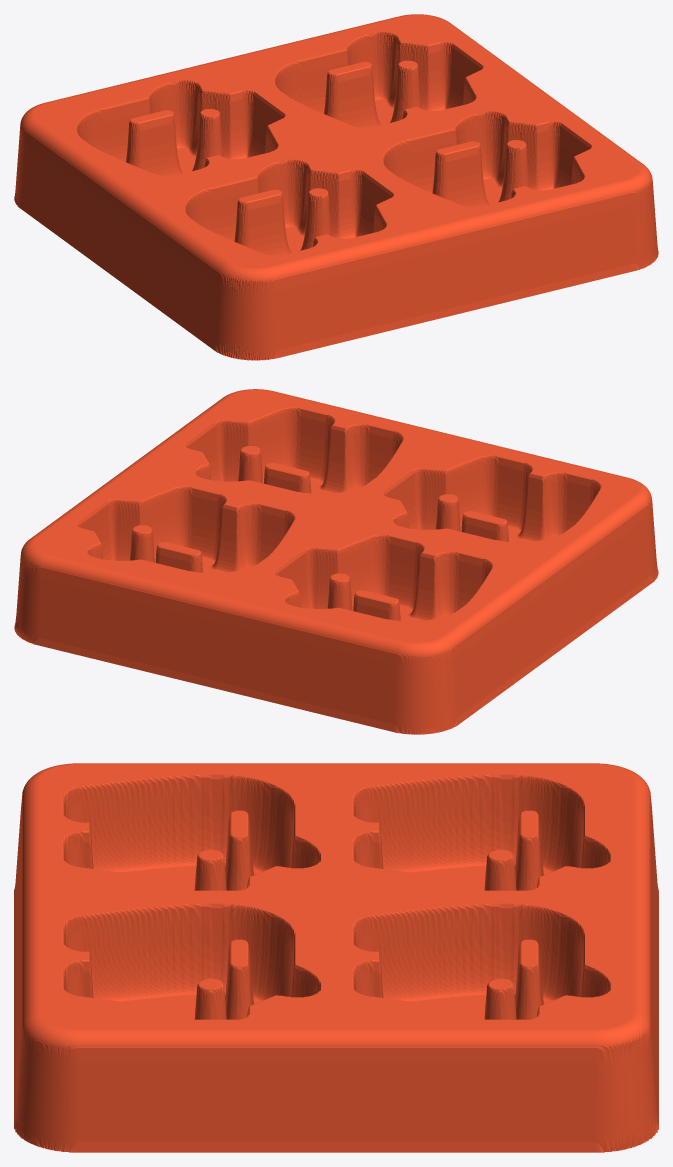
The model's file is mold.glb.
3 renders of one model, top to bottom at view 1: azimuth 30°, elevation 25°; view 2: azimuth 150°, elevation 25°; view 3: azimuth 270°, elevation 25°, orthographic. The views are drawn at different scales.
Parts seen in each view (by area): view 1: geometry_0; view 2: geometry_0; view 3: geometry_0.
Boxes of the visible parts, bbox=[...] form: geometry_0: bbox=[14, 14, 658, 360]; geometry_0: bbox=[14, 389, 658, 734]; geometry_0: bbox=[14, 763, 658, 1152].
Size of the model in its own units: 0.0952 by 0.0175 by 0.0908.
